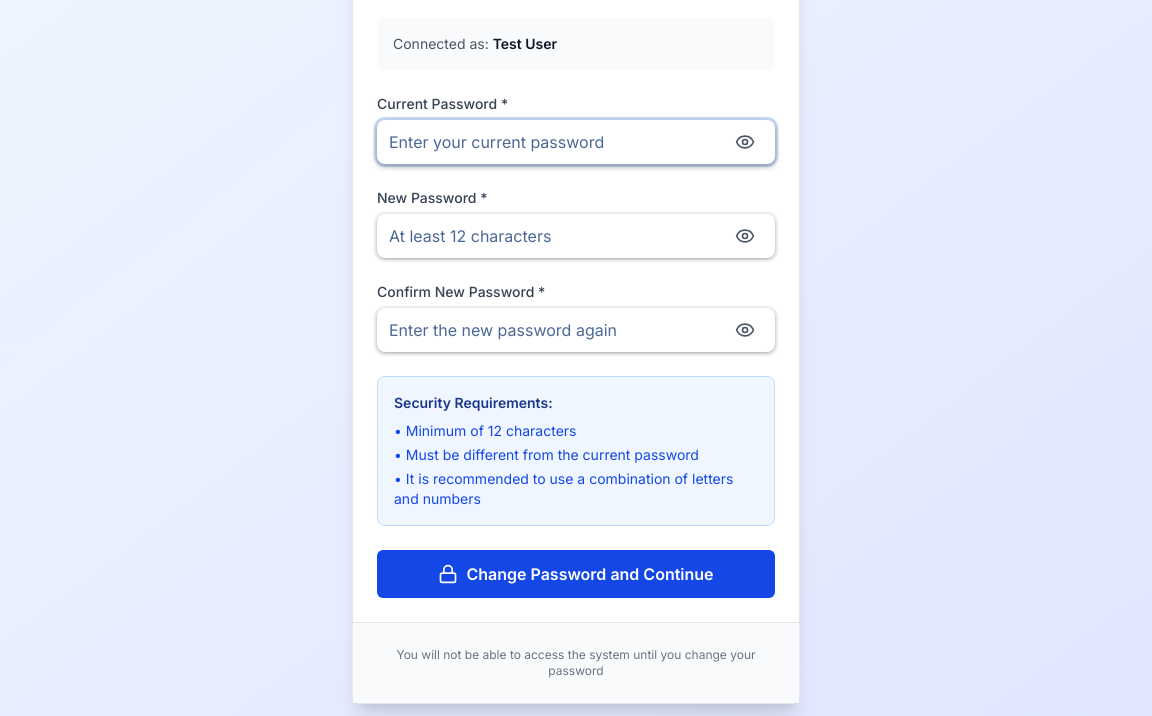
Test case: ForcePasswordChangePage › Password change form › should show validation errors when submitting empty form
(page scrolled)
Click the button "Change Password and Continue".
click(576, 574)  # box [377,550,775,598]
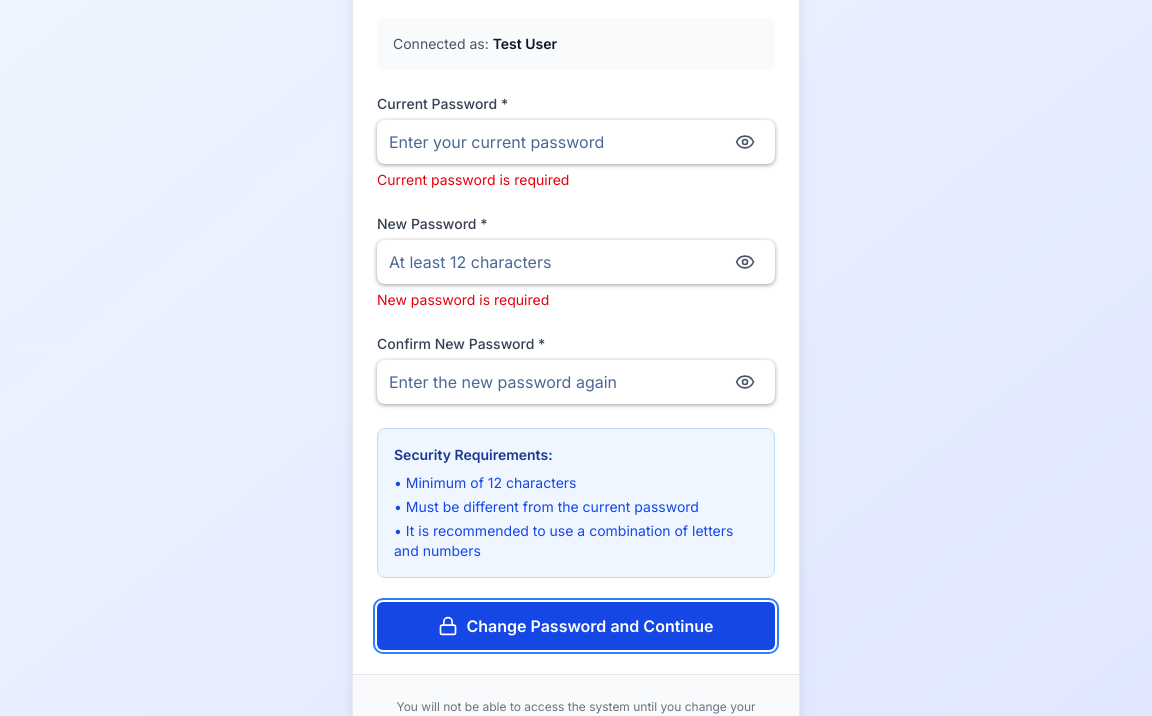
Expected: the text "Current password is required" is shown, [377,171,569,188]
Expected: the text "New password is required" is shown, [377,291,549,308]
